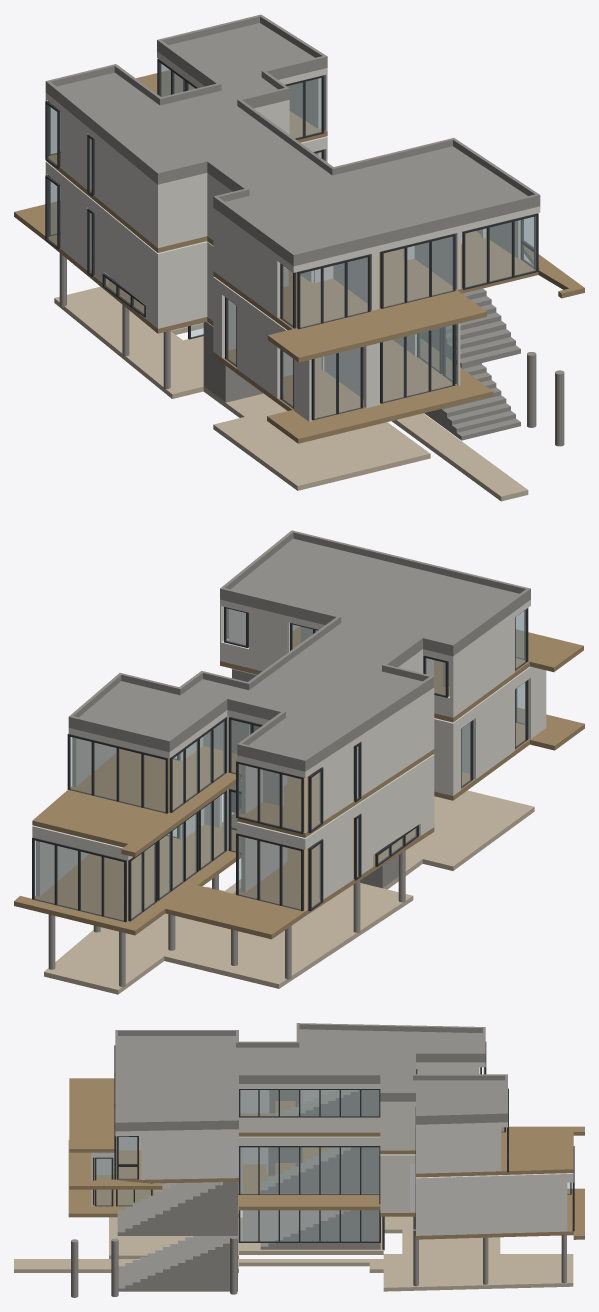
The model's file is stillwater.glb.
The picture shows the model from 3 angles, top to bottom: view 1: azimuth 30°, elevation 25°; view 2: azimuth 150°, elevation 25°; view 3: azimuth 270°, elevation 25°; orthographic projection. The views are drawn at different scales.
Visible parts, largest first — view 1: roof, walls-ext-second, slab-understory, walls-ext-first, slab-second, glass-second, slab-first, glass-first, frames-second, circulation-understory, frames-first, circulation-first (+3 smaller); view 2: roof, slab-understory, walls-ext-second, walls-ext-first, slab-first, slab-second, glass-first, glass-second, frames-first, frames-second, columns, walls-int-second (+2 smaller); view 3: roof, walls-ext-second, slab-understory, walls-ext-first, slab-second, circulation-first, circulation-understory, slab-first, glass-first, glass-second, glass-understory, circulation-second (+7 smaller).
Part boxes in pixels (x1,y1,x2,y2): roof: (45, 14, 540, 266); walls-ext-second: (45, 51, 540, 317); slab-understory: (54, 286, 528, 501); walls-ext-first: (45, 136, 460, 421); slab-second: (45, 70, 584, 362); glass-second: (47, 62, 536, 327); slab-first: (14, 201, 493, 443); glass-first: (47, 152, 452, 418); frames-second: (45, 58, 538, 329); circulation-understory: (203, 322, 520, 440); frames-first: (45, 149, 456, 420); circulation-first: (206, 241, 520, 367); roof: (68, 530, 530, 771); slab-understory: (44, 790, 534, 994); walls-ext-second: (68, 599, 530, 832); walls-ext-first: (32, 666, 546, 911); slab-first: (14, 708, 584, 939); slab-second: (32, 626, 583, 857); glass-first: (34, 682, 525, 920); glass-second: (70, 608, 525, 831); frames-first: (32, 680, 528, 922); frames-second: (67, 607, 528, 833); columns: (48, 851, 405, 987); walls-int-second: (263, 615, 449, 805); roof: (115, 1023, 507, 1131); walls-ext-second: (115, 1062, 507, 1179); slab-understory: (14, 1216, 573, 1291); walls-ext-first: (91, 1136, 573, 1235); slab-second: (69, 1078, 584, 1189); circulation-first: (117, 1147, 379, 1235); circulation-understory: (118, 1210, 380, 1291); slab-first: (68, 1140, 584, 1239); glass-first: (96, 1147, 569, 1205); glass-second: (119, 1067, 503, 1178); glass-understory: (240, 1210, 378, 1241); circulation-second: (269, 1090, 379, 1115).
Size of what is drawn, in the model's own units: 14.19 by 11 by 31.7.
